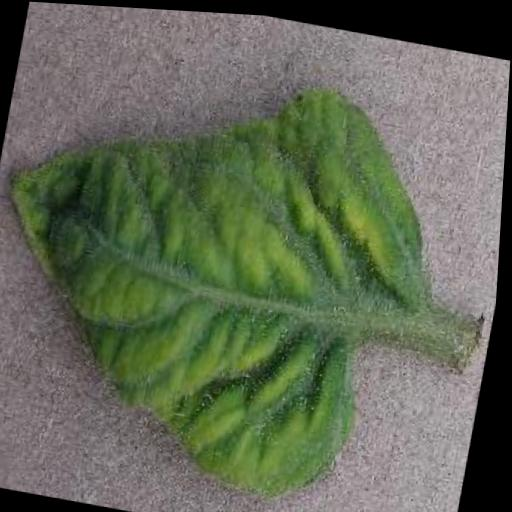Yellow Leaf Curl Virus: (0, 36, 466, 512)
